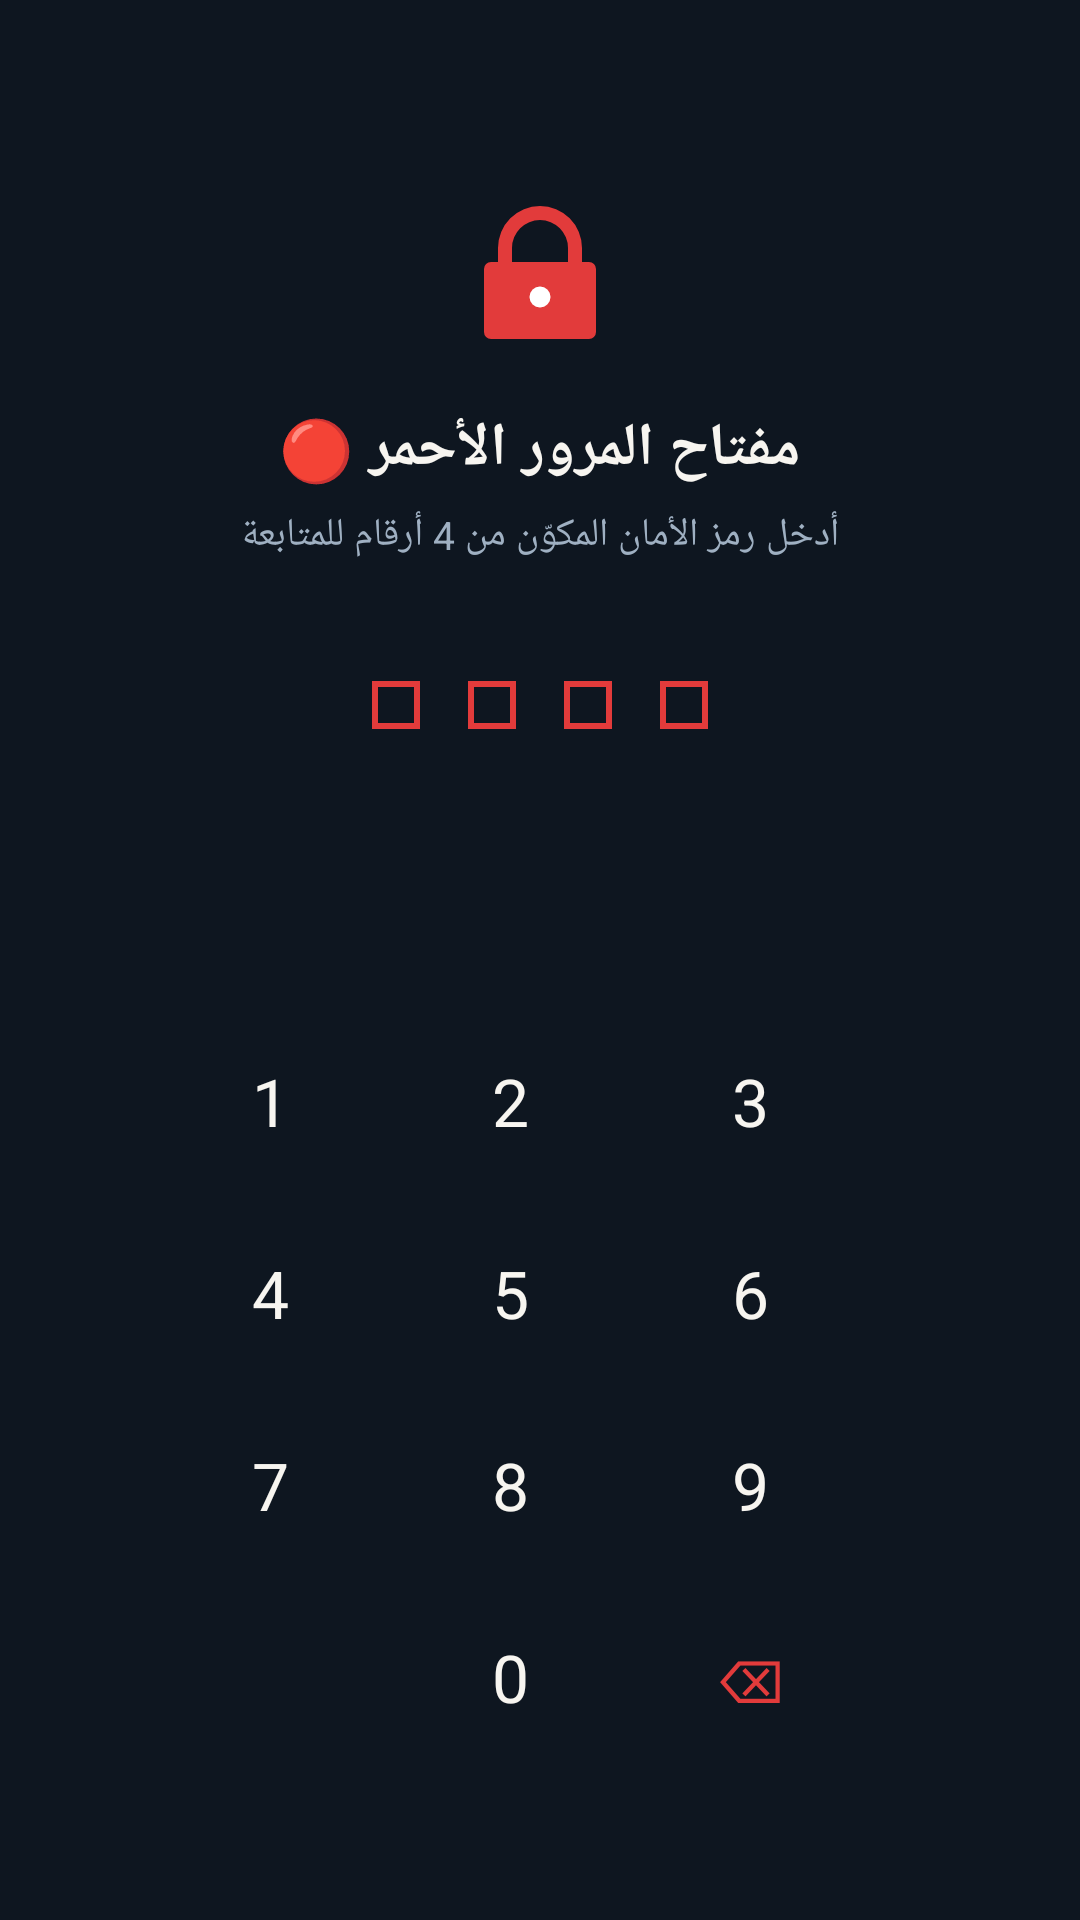

Icon bounding boxes for this 1080x1920 phone screenshot, format (x1, y1, x2, y2):
pin dot empty: (372, 681, 420, 729), (468, 681, 516, 729), (564, 681, 612, 729), (660, 681, 708, 729)
pin lock: (484, 206, 596, 339)
